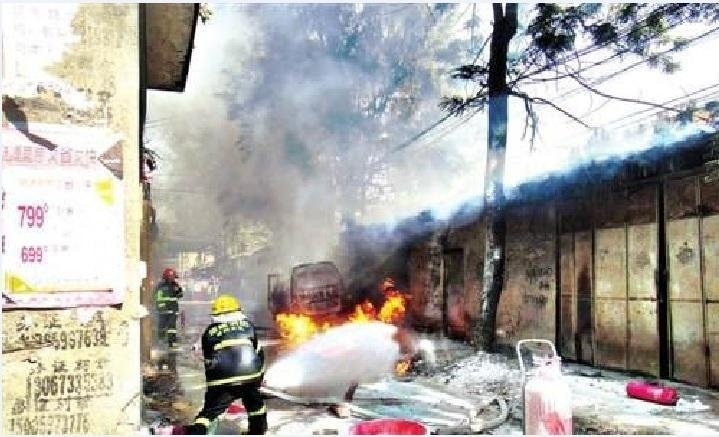fire: (272, 278, 412, 336)
